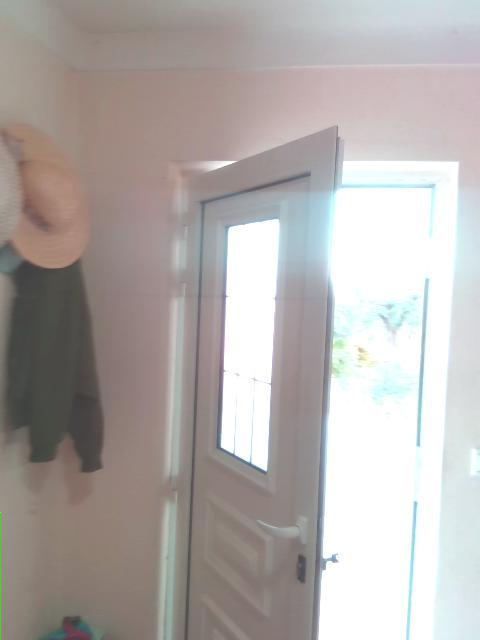semi_door: (165, 121, 450, 639)
